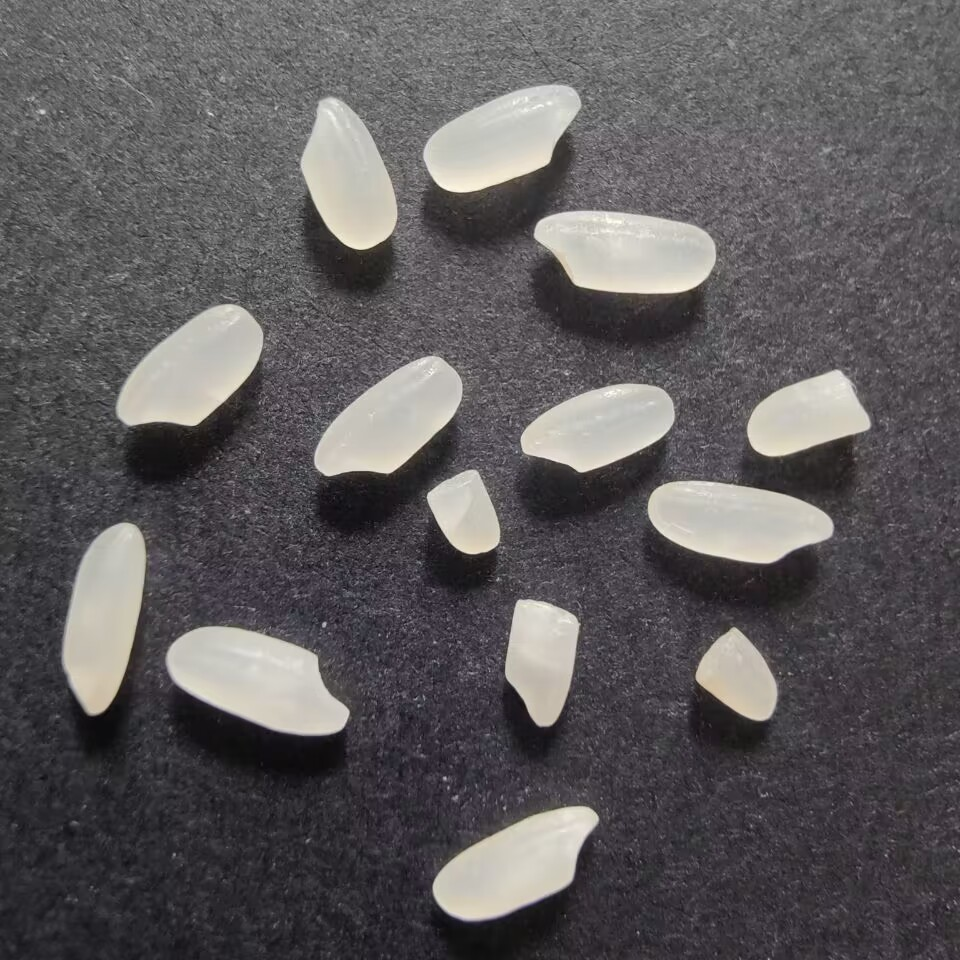broken: (742, 366, 880, 460), (497, 592, 586, 734), (690, 623, 785, 729), (421, 467, 507, 561)
rice: (156, 615, 356, 740), (427, 802, 601, 927), (312, 350, 468, 485), (111, 302, 266, 436), (416, 77, 585, 199), (640, 476, 844, 573), (55, 516, 147, 726), (528, 203, 719, 297), (295, 94, 402, 253), (513, 379, 678, 478)
